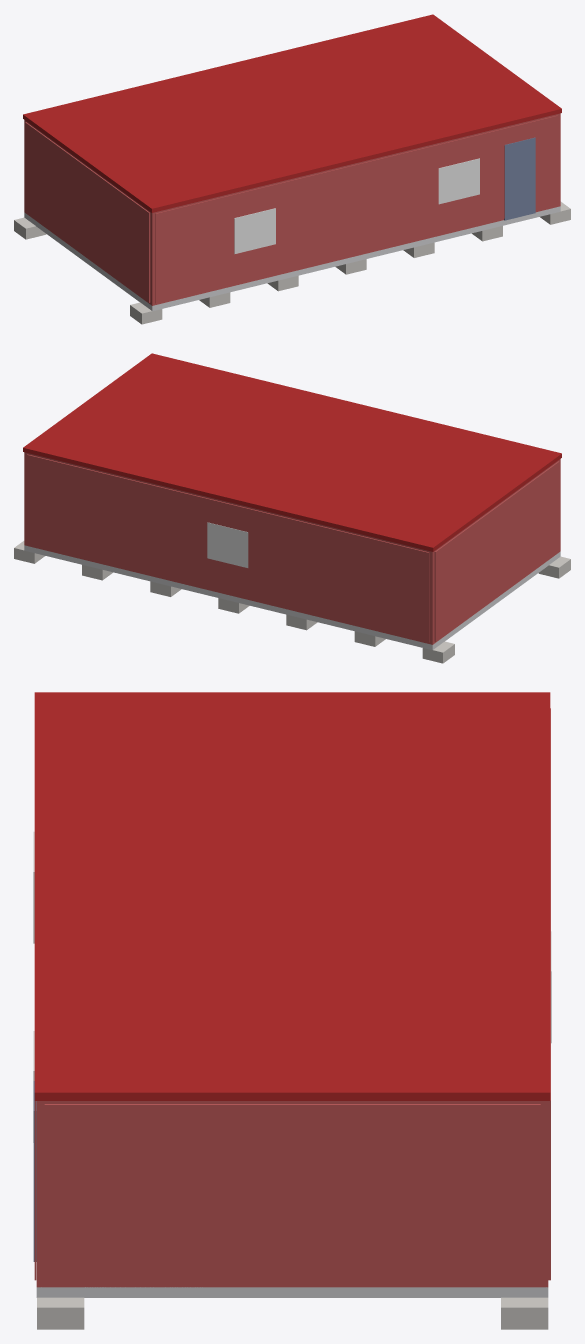
File: Studio-40-Base-CrimsonRed-LOD3.glb
3 views of the same model, one above another, from view 1: azimuth 30°, elevation 25°; view 2: azimuth 150°, elevation 25°; view 3: azimuth 270°, elevation 25° (orthographic). The views are drawn at different scales.
Visible parts, largest first — view 1: RoofMain, ExteriorPanelsStandard, BaseFrame, WindowsStandard, ExteriorShell, FoundationBlocks, EntryDoor; view 2: RoofMain, ExteriorPanelsStandard, BaseFrame, ExteriorShell, FoundationBlocks, WindowsStandard; view 3: RoofMain, ExteriorPanelsStandard, ExteriorShell, BaseFrame, FoundationBlocks.
Boxes of the visible parts, <box> form: RoofMain: <box>23,14,561,212</box>; ExteriorPanelsStandard: <box>25,115,557,303</box>; BaseFrame: <box>24,206,560,311</box>; WindowsStandard: <box>234,158,479,254</box>; ExteriorShell: <box>24,113,560,305</box>; FoundationBlocks: <box>14,201,570,324</box>; EntryDoor: <box>504,137,535,220</box>; RoofMain: <box>23,353,561,551</box>; ExteriorPanelsStandard: <box>27,454,559,642</box>; BaseFrame: <box>24,545,560,650</box>; ExteriorShell: <box>24,452,560,644</box>; FoundationBlocks: <box>14,541,570,663</box>; WindowsStandard: <box>207,522,248,567</box>; RoofMain: <box>34,692,550,1100</box>; ExteriorPanelsStandard: <box>34,708,550,1284</box>; ExteriorShell: <box>36,1101,548,1287</box>; BaseFrame: <box>36,1287,548,1297</box>; FoundationBlocks: <box>37,1297,548,1329</box>.
Bounding box in the file's own units: 12.49 × 3.17 × 6.53.
